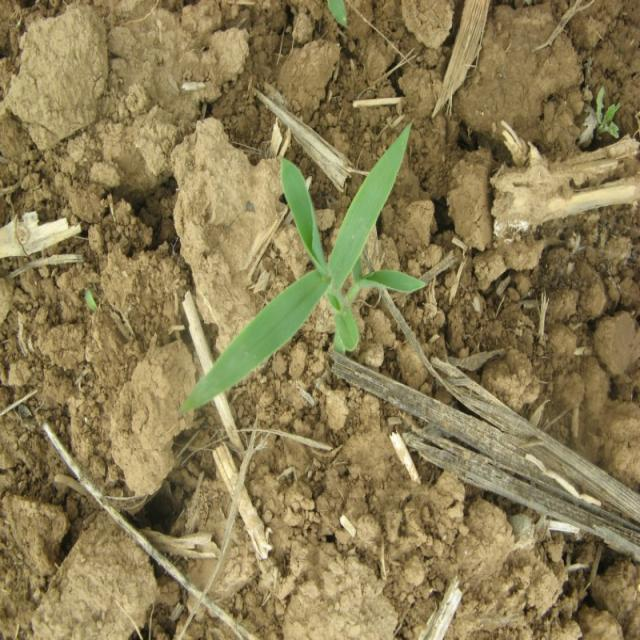bg: (184, 122, 426, 410)
